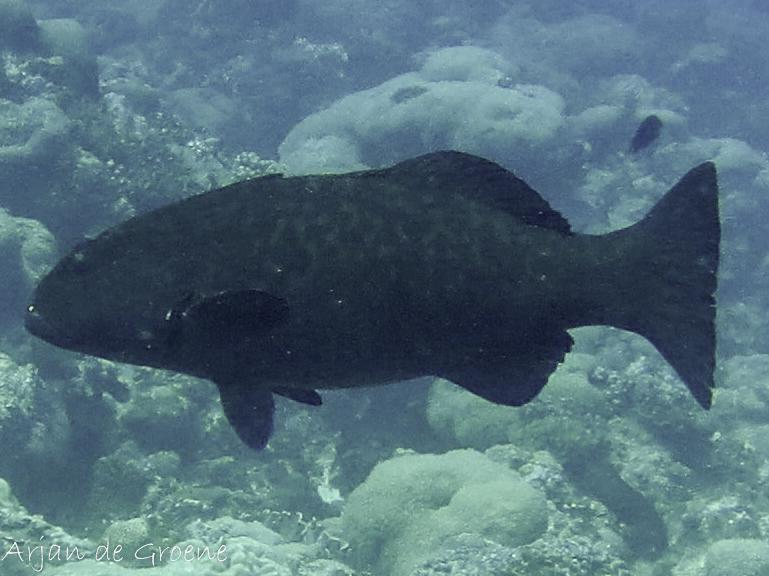Fish: (18, 131, 728, 450)
